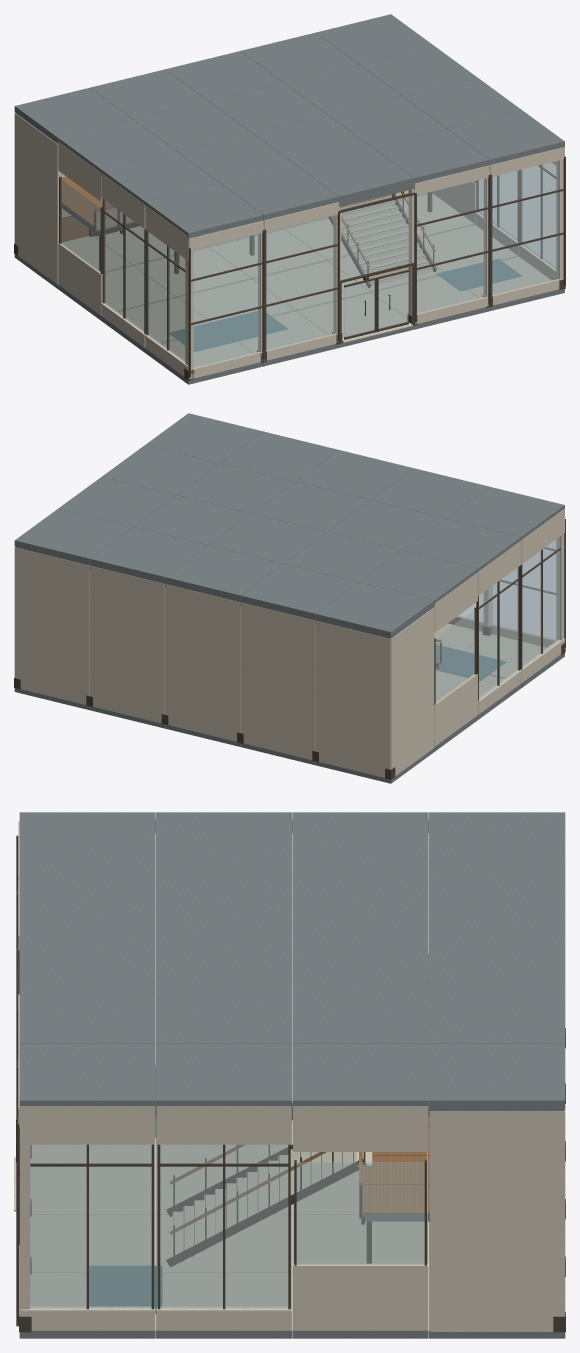
File: PZ_Seaside_Resort_Lobby_Shell.glb
3 renders of one model, top to bottom at view 1: azimuth 30°, elevation 25°; view 2: azimuth 150°, elevation 25°; view 3: azimuth 270°, elevation 25°, orthographic. The views are drawn at different scales.
Visible parts, largest first — view 1: RENDER__FrontGlazingBay_X+4_SNAP__WindowWallGlass__Glass, RENDER__FrontGlazingBay_X-4_SNAP__WindowWallGlass__Glass, RENDER__FrontGlazingBay_X-8_SNAP__WindowWallGlass__Glass, RENDER__FrontGlazingBay_X+8_SNAP__WindowWallGlass__Glass, RENDER__West_FacadeBay_04_SNAP__FullHeightInsulatedWall__Pla, RENDER__A06_CENTER_ENTRANCE_4M_BAY__Entry_UpperGlazing__Glas, RENDER__West_FacadeBay_02_SNAP__TintedGlazing__Glass, RENDER__RoofPanel_01_01_REMOVABLE__InsulatedRoofSlab__Concre, RENDER__West_FacadeBay_01_SNAP__TintedGlazing__Glass, RENDER__RoofPanel_03_01_REMOVABLE__InsulatedRoofSlab__Concre, RENDER__RoofPanel_02_01_REMOVABLE__InsulatedRoofSlab__Concre, RENDER__RoofPanel_04_01_REMOVABLE__InsulatedRoofSlab__Concre (+65 smaller); view 2: RENDER__BackWallBay_03_SNAP_4M__FullHeightInsulatedWall__Pla, RENDER__BackWallBay_02_SNAP_4M__FullHeightInsulatedWall__Pla, RENDER__BackWallBay_04_SNAP_4M__FullHeightInsulatedWall__Pla, RENDER__BackWallBay_05_SNAP_4M__FullHeightInsulatedWall__Pla, RENDER__BackWallBay_01_SNAP_4M__FullHeightInsulatedWall__Pla, RENDER__West_FacadeBay_04_SNAP__FullHeightInsulatedWall__Pla, RENDER__West_FacadeBay_02_SNAP__TintedGlazing__Glass, RENDER__RoofPanel_01_04_REMOVABLE__InsulatedRoofSlab__Concre, RENDER__West_FacadeBay_01_SNAP__TintedGlazing__Glass, RENDER__FrontGlazingBay_X-8_SNAP__WindowWallGlass__Glass, RENDER__RoofPanel_03_04_REMOVABLE__InsulatedRoofSlab__Concre, RENDER__RoofPanel_04_04_REMOVABLE__InsulatedRoofSlab__Concre (+32 smaller); view 3: RENDER__East_FacadeBay_04_SNAP__FullHeightInsulatedWall__Pla, RENDER__East_FacadeBay_02_SNAP__TintedGlazing__Glass, RENDER__East_FacadeBay_01_SNAP__TintedGlazing__Glass, RENDER__East_FacadeBay_03_SNAP__GlazedClerestory__Glass, RENDER__RoofPanel_05_04_REMOVABLE__InsulatedRoofSlab__Concre, RENDER__East_FacadeBay_03_SNAP__LowerWall__PlasterWarm, RENDER__RoofPanel_05_02_REMOVABLE__InsulatedRoofSlab__Concre, RENDER__RoofPanel_05_01_REMOVABLE__InsulatedRoofSlab__Concre, RENDER__RoofPanel_05_03_REMOVABLE__InsulatedRoofSlab__Concre, RENDER__RoofPanel_04_01_REMOVABLE__InsulatedRoofSlab__Concre, RENDER__RoofPanel_04_02_REMOVABLE__InsulatedRoofSlab__Concre, RENDER__RoofPanel_04_03_REMOVABLE__InsulatedRoofSlab__Concre (+41 smaller).
Part boxes in pixels (x1,y1,x2,y2): RENDER__FrontGlazingBay_X+4_SNAP__WindowWallGlass__Glass: [417, 178, 486, 313]; RENDER__FrontGlazingBay_X-4_SNAP__WindowWallGlass__Glass: [266, 215, 335, 350]; RENDER__FrontGlazingBay_X-8_SNAP__WindowWallGlass__Glass: [193, 233, 260, 367]; RENDER__FrontGlazingBay_X+8_SNAP__WindowWallGlass__Glass: [492, 161, 558, 294]; RENDER__West_FacadeBay_04_SNAP__FullHeightInsulatedWall__Pla: [14, 113, 60, 284]; RENDER__A06_CENTER_ENTRANCE_4M_BAY__Entry_UpperGlazing__Glas: [341, 196, 410, 279]; RENDER__West_FacadeBay_02_SNAP__TintedGlazing__Glass: [104, 200, 144, 331]; RENDER__RoofPanel_01_01_REMOVABLE__InsulatedRoofSlab__Concre: [145, 183, 263, 238]; RENDER__West_FacadeBay_01_SNAP__TintedGlazing__Glass: [148, 232, 185, 361]; RENDER__RoofPanel_03_01_REMOVABLE__InsulatedRoofSlab__Concre: [296, 146, 414, 202]; RENDER__RoofPanel_02_01_REMOVABLE__InsulatedRoofSlab__Concre: [220, 165, 338, 220]; RENDER__RoofPanel_04_01_REMOVABLE__InsulatedRoofSlab__Concre: [371, 128, 489, 183]; RENDER__BackWallBay_03_SNAP_4M__FullHeightInsulatedWall__Pla: [165, 584, 240, 741]; RENDER__BackWallBay_02_SNAP_4M__FullHeightInsulatedWall__Pla: [241, 602, 315, 759]; RENDER__BackWallBay_04_SNAP_4M__FullHeightInsulatedWall__Pla: [90, 565, 164, 723]; RENDER__BackWallBay_05_SNAP_4M__FullHeightInsulatedWall__Pla: [15, 547, 89, 704]; RENDER__BackWallBay_01_SNAP_4M__FullHeightInsulatedWall__Pla: [316, 621, 391, 777]; RENDER__West_FacadeBay_04_SNAP__FullHeightInsulatedWall__Pla: [391, 607, 434, 775]; RENDER__West_FacadeBay_02_SNAP__TintedGlazing__Glass: [479, 567, 518, 698]; RENDER__RoofPanel_01_04_REMOVABLE__InsulatedRoofSlab__Concre: [316, 582, 434, 638]; RENDER__West_FacadeBay_01_SNAP__TintedGlazing__Glass: [522, 537, 559, 667]; RENDER__FrontGlazingBay_X-8_SNAP__WindowWallGlass__Glass: [491, 540, 555, 639]; RENDER__RoofPanel_03_04_REMOVABLE__InsulatedRoofSlab__Concre: [165, 545, 283, 601]; RENDER__RoofPanel_04_04_REMOVABLE__InsulatedRoofSlab__Concre: [90, 527, 208, 582]; RENDER__East_FacadeBay_04_SNAP__FullHeightInsulatedWall__Pla: [429, 1111, 564, 1331]; RENDER__East_FacadeBay_02_SNAP__TintedGlazing__Glass: [160, 1144, 288, 1308]; RENDER__East_FacadeBay_01_SNAP__TintedGlazing__Glass: [30, 1144, 151, 1308]; RENDER__East_FacadeBay_03_SNAP__GlazedClerestory__Glass: [296, 1162, 424, 1264]; RENDER__RoofPanel_05_04_REMOVABLE__InsulatedRoofSlab__Concre: [429, 1043, 565, 1110]; RENDER__East_FacadeBay_03_SNAP__LowerWall__PlasterWarm: [293, 1263, 428, 1330]; RENDER__RoofPanel_05_02_REMOVABLE__InsulatedRoofSlab__Concre: [156, 1043, 292, 1110]; RENDER__RoofPanel_05_01_REMOVABLE__InsulatedRoofSlab__Concre: [19, 1043, 155, 1109]; RENDER__RoofPanel_05_03_REMOVABLE__InsulatedRoofSlab__Concre: [292, 1043, 428, 1109]; RENDER__RoofPanel_04_01_REMOVABLE__InsulatedRoofSlab__Concre: [19, 985, 155, 1043]; RENDER__RoofPanel_04_02_REMOVABLE__InsulatedRoofSlab__Concre: [156, 985, 292, 1043]; RENDER__RoofPanel_04_03_REMOVABLE__InsulatedRoofSlab__Concre: [292, 985, 428, 1043].
Bounding box in the file's own units: 20.08 × 7.69 × 16.18.
9 materials, 8 textured.
